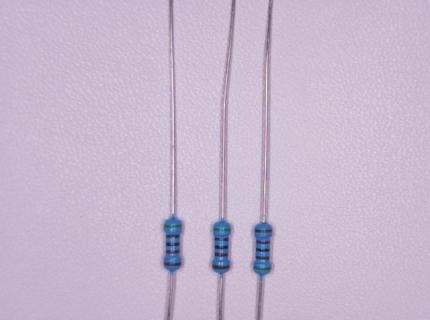Black band: (215, 245, 228, 249), (256, 248, 269, 252), (167, 243, 179, 246)
Brown band: (213, 265, 230, 269), (255, 229, 272, 233), (215, 237, 228, 241), (165, 263, 180, 266), (256, 256, 270, 259), (166, 235, 179, 238)
Green band: (165, 224, 181, 228), (214, 228, 230, 232), (255, 267, 271, 271)
Red band: (167, 250, 179, 254), (256, 241, 270, 244), (215, 253, 228, 256)
